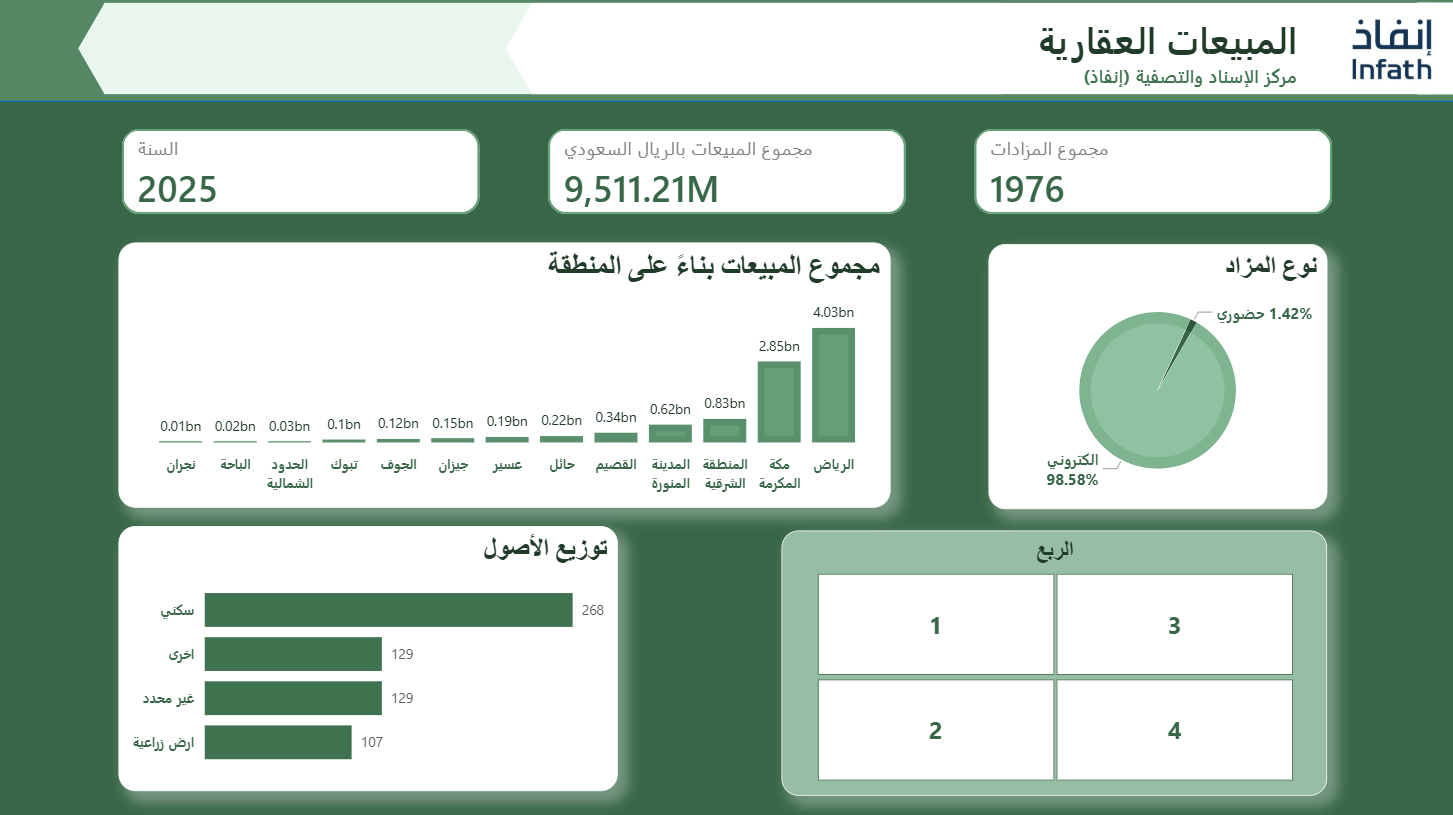

Layout of this report page (visuals, bound fields, positions):
{"tool":"powerbi","page":{"name":"Page 1","canvas":[1280,720],"ordinal":0},"visuals":[{"type":"shape","box":[0,0,1280,93.7],"z":1000},{"type":"shape","box":[71.1,6.5,833.9,80.8],"z":1500},{"type":"cardVisual","fields":{"Data":["Median(estate.year)","Sum(estate.total_sales)","Sum(estate.number_auction)"]},"box":[92.1,100.2,1097.4,109.9],"z":2000},{"type":"clusteredColumnChart","title":"مجموع المبيعات بناءً على المنطقة","fields":{"Category":["estate.region"],"Y":["Sum(estate.total_sales)"]},"box":[106.7,216.6,677.2,232.7],"z":3000},{"type":"pieChart","title":"نوع المزاد","fields":{"Category":["estate.auction_type"],"Y":["CountNonNull(estate.auction_type)"]},"box":[869.5,218.2,297.4,232.7],"z":4000},{"type":"clusteredBarChart","title":"توزيع الأصول","fields":{"Category":["estate.instrument_type"],"Y":["CountNonNull(estate.instrument_type)"]},"box":[106.7,465.5,438,232.7],"z":5000},{"type":"slicer","title":"الربع","fields":{"Values":["estate.quarter"]},"box":[688.5,470.3,478.4,232.7],"z":6000},{"type":"shape","box":[446.1,6.5,833.9,80.8],"z":7000},{"type":"textbox","box":[488.1,11.3,657.8,82.4],"z":8000},{"type":"shape","box":[1246.1,6.5,33.9,80.8],"z":8001},{"type":"image","box":[1184.6,17.8,79.2,59.8],"z":8002}]}

Visuals, with their boxes in screenshot pixels (x1, y1, x2, y2), scaled from the page's 1280x720 canvas onto the 1453x815 screenshot:
shape: (0, 0, 1452, 106)
shape: (81, 7, 1027, 99)
cardVisual - Median(estate.year) x Sum(estate.total_sales): (105, 113, 1350, 238)
"مجموع المبيعات بناءً على المنطقة" clusteredColumnChart: (121, 245, 890, 509)
"نوع المزاد" pieChart: (987, 247, 1325, 510)
"توزيع الأصول" clusteredBarChart: (121, 527, 618, 790)
"الربع" slicer: (782, 532, 1325, 796)
shape: (506, 7, 1452, 99)
textbox: (554, 13, 1301, 106)
shape: (1415, 7, 1452, 99)
image: (1345, 20, 1435, 88)
